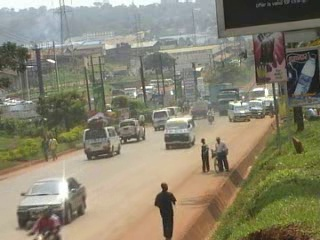Car: (12, 172, 86, 225)
Motorcycle: (26, 209, 67, 239), (203, 107, 214, 125)
